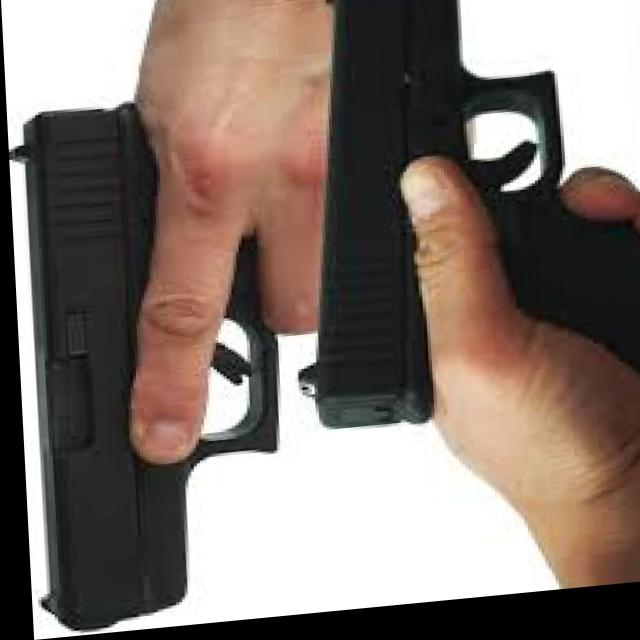handgun: (268, 0, 640, 442), (4, 78, 281, 627)
